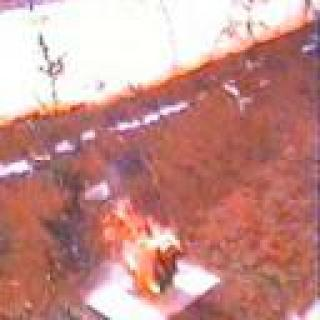fire: (96, 188, 187, 304)
